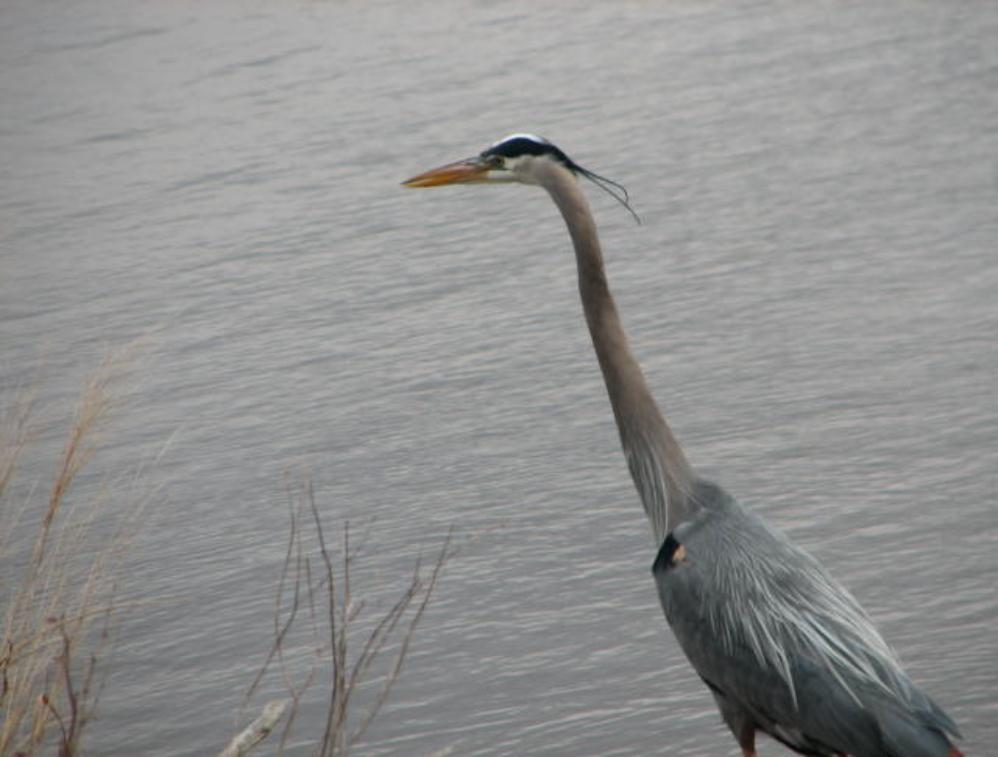heron: (392, 117, 963, 757)
